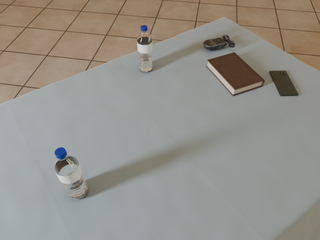book: (206, 52, 265, 96)
bottle: (54, 148, 88, 200), (137, 25, 153, 72)
mouse: (203, 35, 235, 51)
phone: (269, 71, 298, 96)
